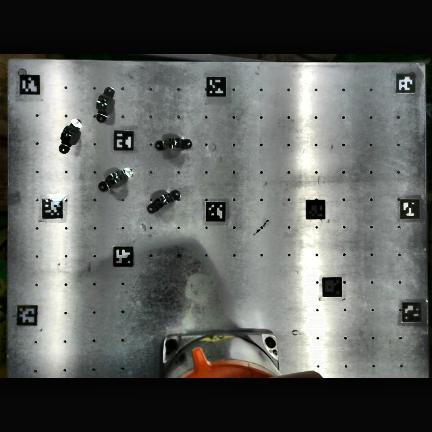clamp: (98, 167, 133, 191), (147, 190, 181, 213), (59, 118, 81, 153), (96, 87, 115, 123), (155, 138, 192, 151)
marker: (17, 304, 38, 325), (400, 198, 420, 219), (42, 198, 62, 218), (113, 246, 133, 266), (114, 130, 134, 150), (206, 75, 226, 95), (403, 300, 422, 321), (206, 201, 225, 222), (20, 75, 40, 94), (396, 73, 415, 93), (306, 200, 325, 219), (323, 278, 342, 296)
